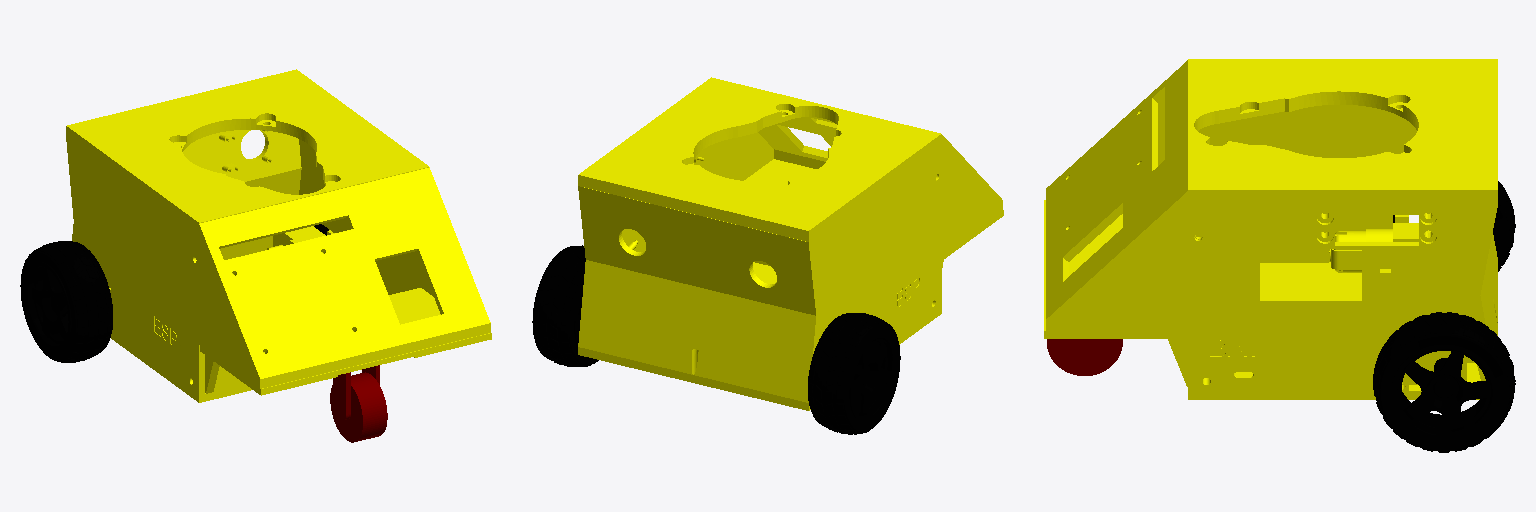
URDF robot description (socks_bot):
<?xml version="1.0" ?>
<!-- =================================================================================== -->
<!-- |    This document was autogenerated by xacro from bot.xacro                      | -->
<!-- |    EDITING THIS FILE BY HAND IS NOT RECOMMENDED                                 | -->
<!-- =================================================================================== -->
<robot name="socks_bot">
  <material name="yellow">
    <color rgba="1 1 0.0 1.0"/>
  </material>
  <material name="black">
    <color rgba="0.01 0.01 0.01 1.0"/>
  </material>
  <material name="red">
    <color rgba="0.5 0.0 0.0 1.0"/>
  </material>
  <link name="base_link">
    <!-- База -->
    <visual>
      <origin rpy="0 0 0" xyz="0 0 0"/>
      <geometry>
        <mesh filename="package://socks_bot/description/meshes/base.stl"/>
      </geometry>
      <material name="yellow"/>
    </visual>
    <!-- Мотор -->
    <visual>
      <origin rpy="1.5707963267948966 0 -1.5707963267948966" xyz="0.06 0.045 0.01625"/>
      <geometry>
        <mesh filename="package://socks_bot/description/meshes/tt_motor.stl" scale="1 1 1"/>
      </geometry>
      <material name="yellow"/>
    </visual>
    <visual>
      <origin rpy="1.5707963267948966 0 -1.5707963267948966" xyz="-0.06 0.045 0.01625"/>
      <geometry>
        <mesh filename="package://socks_bot/description/meshes/tt_motor.stl" scale="1 1 1"/>
      </geometry>
      <material name="yellow"/>
    </visual>
    <visual>
      <origin rpy="0 0 -1.5707963267948966" xyz="0 -0.03 0.105"/>
      <geometry>
        <mesh filename="package://socks_bot/description/meshes/cover.stl" scale="1 1 1"/>
      </geometry>
      <material name="yellow"/>
    </visual>
    <visual>
      <origin rpy="0.7853981633974483 0 0" xyz="-0.0365 -0.128 0.068"/>
      <geometry>
        <mesh filename="package://socks_bot/description/meshes/raspberry_holder.stl" scale="1 1 1"/>
      </geometry>
      <material name="yellow"/>
    </visual>
    <visual>
      <origin rpy="0 0 0" xyz="0 -0.125 0.0327"/>
      <geometry>
        <mesh filename="package://socks_bot/description/meshes/wheel_holder.stl" scale="1 1 1"/>
      </geometry>
      <material name="yellow"/>
    </visual>
    <!-- Коллизия -->
    <collision>
      <origin rpy="0 0 0" xyz="0 0 0"/>
      <geometry>
        <mesh filename="package://socks_bot/description/meshes/base.stl"/>
      </geometry>
    </collision>
  </link>
  <link name="wheel_left_link">
    <visual>
      <origin rpy="0 0 0" xyz="0 0 0"/>
      <geometry>
        <mesh filename="package://socks_bot/description/meshes/wheel.stl"/>
      </geometry>
      <material name="black"/>
    </visual>
    <collision>
      <origin rpy="0 0 0" xyz="0 0 0"/>
      <geometry>
        <mesh filename="package://socks_bot/description/meshes/wheel.stl"/>
      </geometry>
    </collision>
  </link>
  <joint name="wheel_left_joint" type="continuous">
    <parent link="base_link"/>
    <child link="wheel_left_link"/>
    <origin rpy="0 -1.5707963267948966 0" xyz="-0.102 0.034 0.01625"/>
    <axis xyz="1 0 0"/>
  </joint>
  <link name="wheel_right_link">
    <visual>
      <origin rpy="0 0 0" xyz="0 0 0"/>
      <geometry>
        <mesh filename="package://socks_bot/description/meshes/wheel.stl"/>
      </geometry>
      <material name="black"/>
    </visual>
    <collision>
      <origin rpy="0 0 0" xyz="0 0 0"/>
      <geometry>
        <mesh filename="package://socks_bot/description/meshes/wheel.stl"/>
      </geometry>
    </collision>
  </link>
  <joint name="wheel_right_joint" type="continuous">
    <parent link="base_link"/>
    <child link="wheel_right_link"/>
    <origin rpy="0 1.5707963267948966 0" xyz="0.102 0.034 0.01625"/>
    <axis xyz="1 0 0"/>
  </joint>
  <link name="caster_wheel">
    <visual>
      <origin rpy="0 0 3.141592653589793" xyz="0 0 0"/>
      <geometry>
        <mesh filename="package://socks_bot/description/meshes/caster_wheel.stl" scale="1 1 1"/>
      </geometry>
      <material name="red"/>
    </visual>
  </link>
  <joint name="caster_wheel_joint" type="fixed">
    <parent link="base_link"/>
    <child link="caster_wheel"/>
    <origin rpy="0 0 0" xyz="0 -0.14 -0.0"/>
    <axis xyz="1 0 0"/>
  </joint>
  <ros2_control name="MyRobotSystem" type="system">
    <hardware>
      <plugin>socks_bot/SocksBotHardware</plugin>
      <param name="wheel_radius">0.0325</param>
      <param name="wheel_separation">0.175</param>
    </hardware>
    <joint name="wheel_left_joint">
      <command_interface name="velocity"/>
      <state_interface name="position"/>
      <state_interface name="velocity"/>
    </joint>
    <joint name="wheel_right_joint">
      <command_interface name="velocity"/>
      <state_interface name="position"/>
      <state_interface name="velocity"/>
    </joint>
  </ros2_control>
</robot>

--- What the picture shows (computed from the rendered views, not written in the file) ---
Views: 3 orthographic renders of the robot side by side, from view 1: azimuth 30°, elevation 25°; view 2: azimuth 150°, elevation 25°; view 3: azimuth 270°, elevation 25°.
Robot: socks_bot — 4 links, 3 joints (2 continuous, 1 fixed); root link base_link; default pose: all joints at 0.
Links seen in each view (by area): view 1: base_link, wheel_left_link, caster_wheel; view 2: base_link, wheel_left_link, wheel_right_link; view 3: base_link, wheel_right_link, caster_wheel, wheel_left_link.
Link boxes in pixels (x1,y1,x2,y2): base_link: [66, 69, 491, 402]; wheel_left_link: [20, 241, 112, 362]; caster_wheel: [330, 365, 387, 442]; base_link: [578, 77, 1003, 410]; wheel_left_link: [808, 313, 900, 434]; wheel_right_link: [532, 245, 598, 366]; base_link: [1044, 59, 1497, 399]; wheel_right_link: [1373, 312, 1515, 452]; caster_wheel: [1047, 339, 1122, 375]; wheel_left_link: [1393, 181, 1515, 271].
Bounding box of the posed robot: 0.204 × 0.228 × 0.1305 m (x, y, z).
Meshes: 7 distinct files referenced, 9 mesh visuals loaded (7 binary STL).
